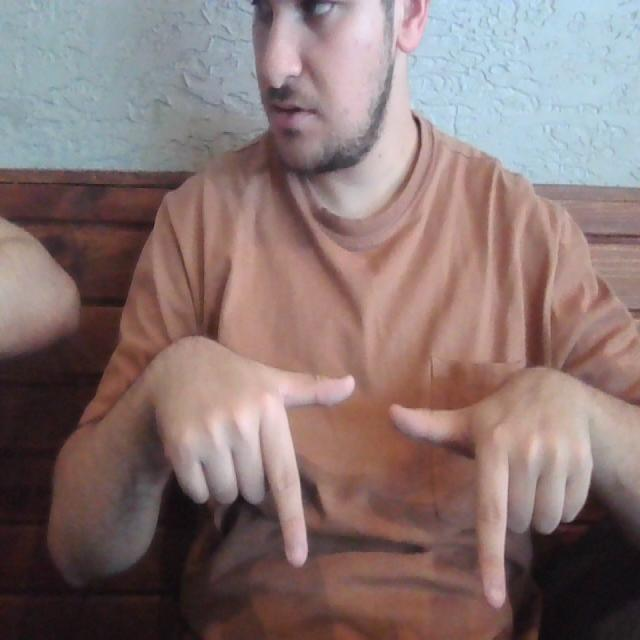Nerede: (255, 354, 516, 616)
